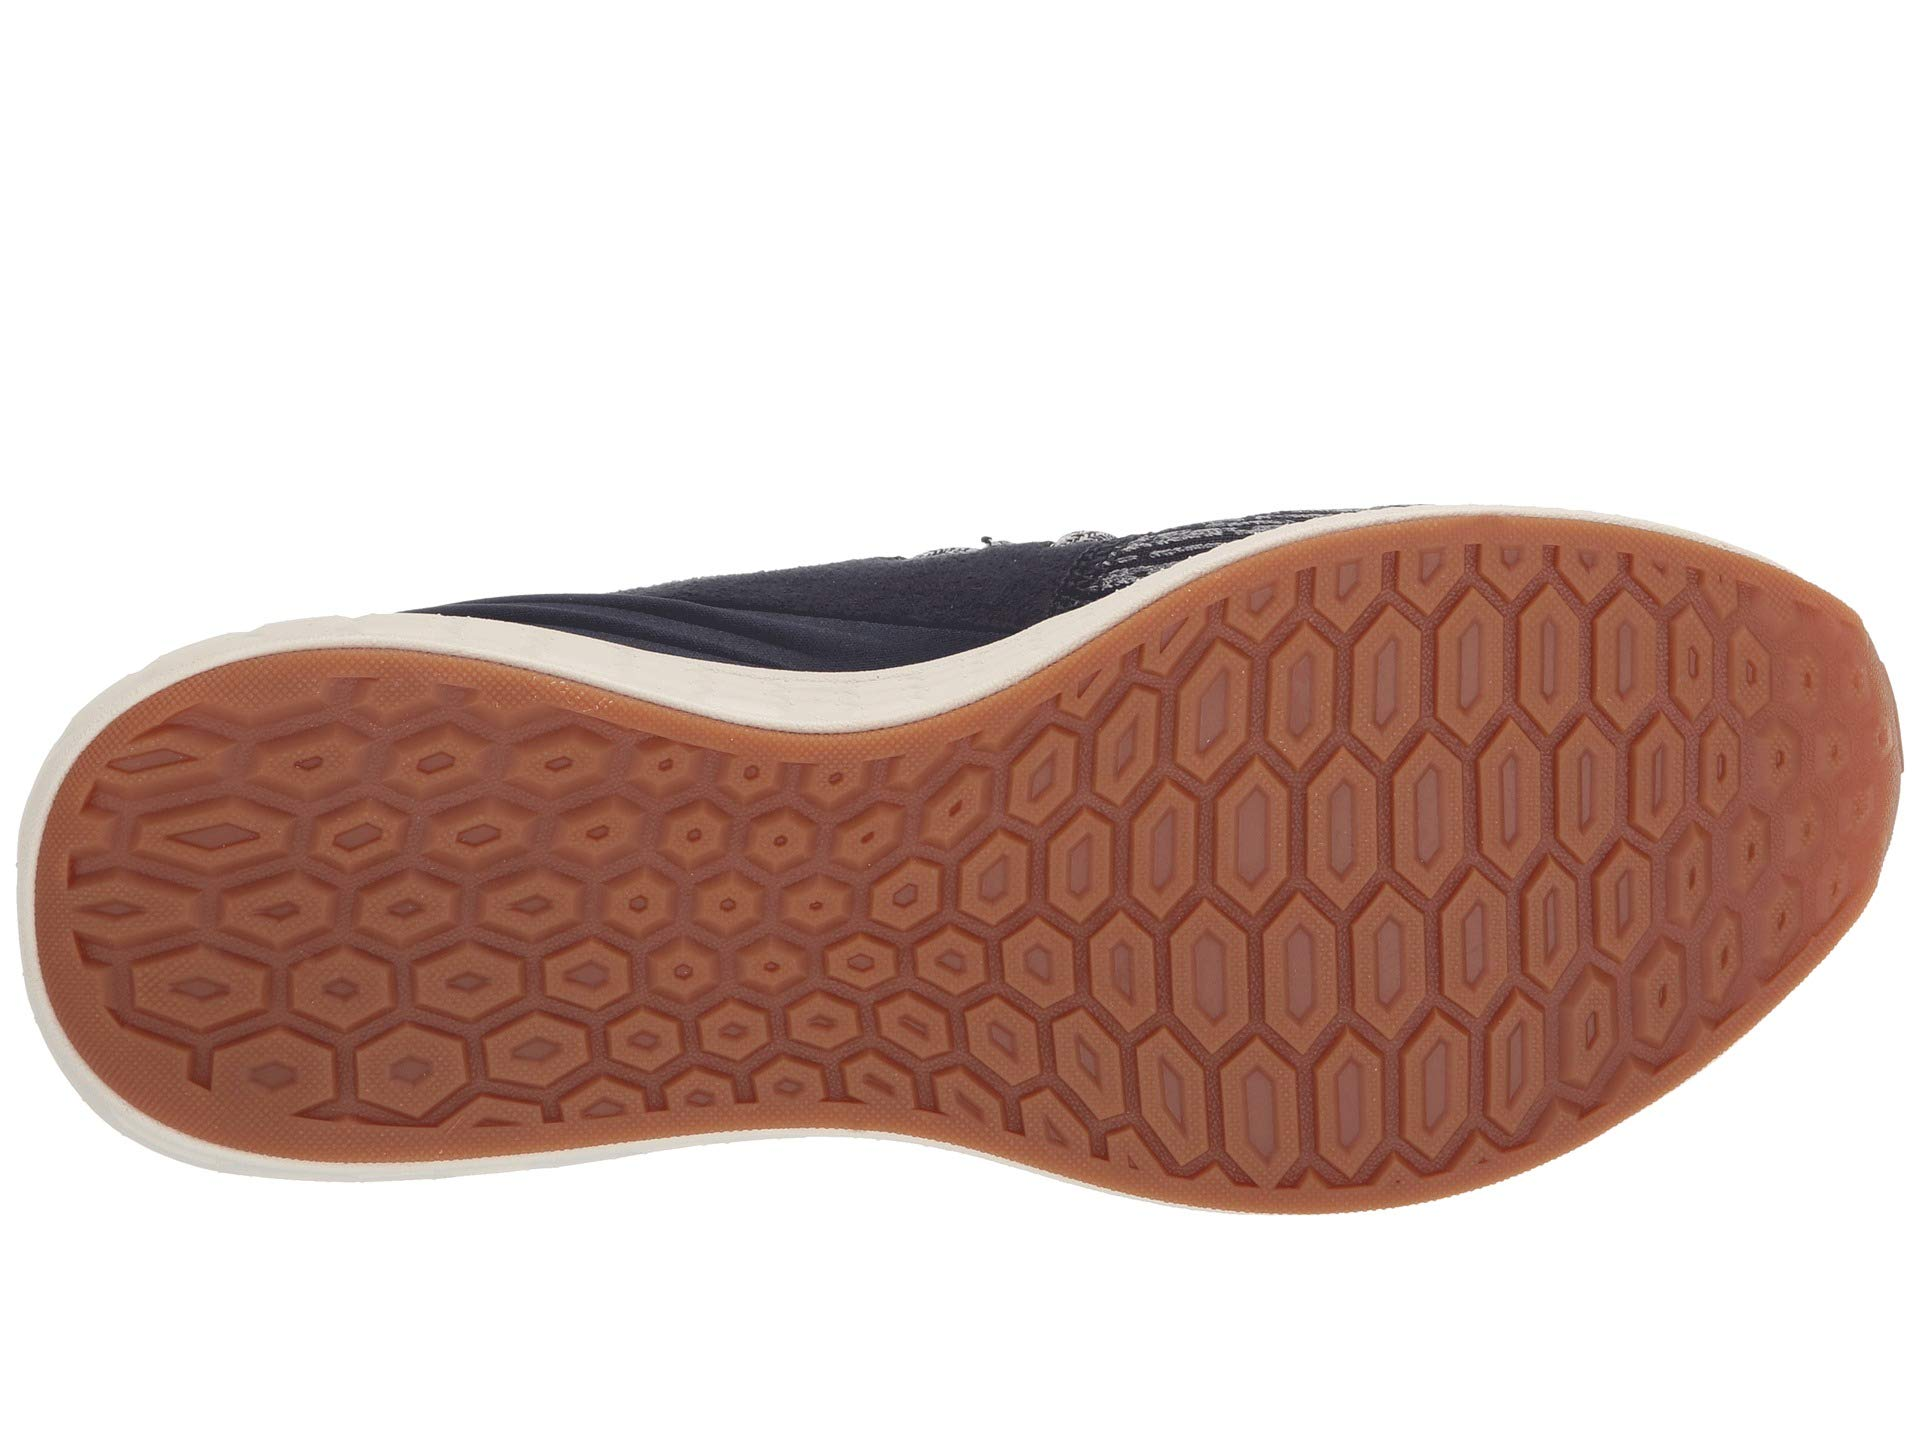polygon: (1166, 629, 1695, 1045), (218, 714, 650, 1106), (897, 761, 1126, 983)
